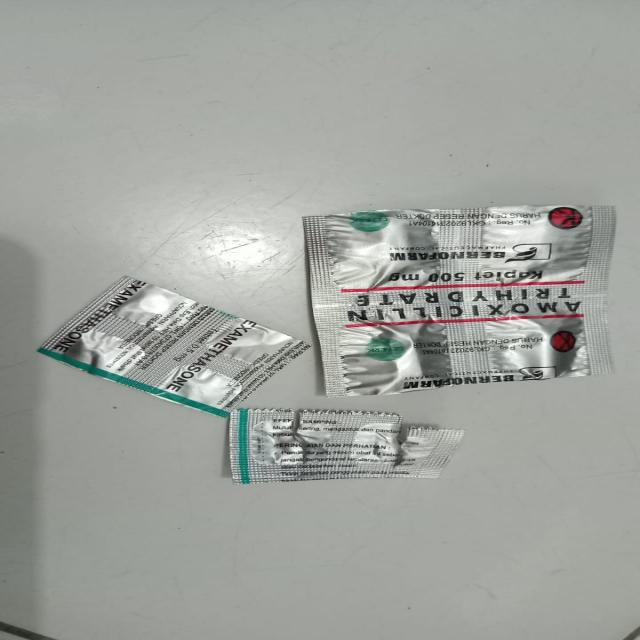obat: (274, 190, 622, 389), (71, 262, 286, 413), (223, 405, 477, 493), (318, 210, 444, 292), (476, 204, 594, 286)
